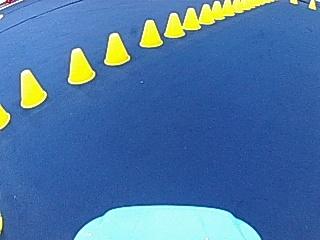cone: (18, 67, 46, 107), (67, 46, 95, 83), (102, 31, 130, 65), (138, 18, 163, 47), (163, 11, 184, 37), (182, 6, 200, 29), (198, 3, 214, 24), (0, 104, 10, 128), (210, 1, 223, 19), (221, 0, 234, 16), (233, 0, 242, 12)
